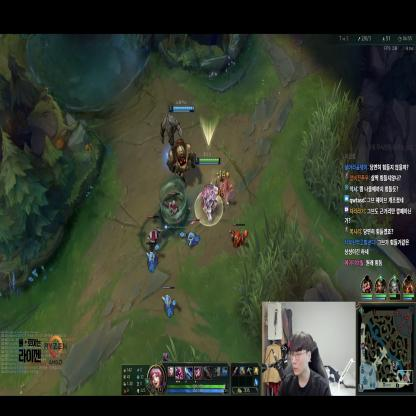streamer: (276, 331, 332, 397)
